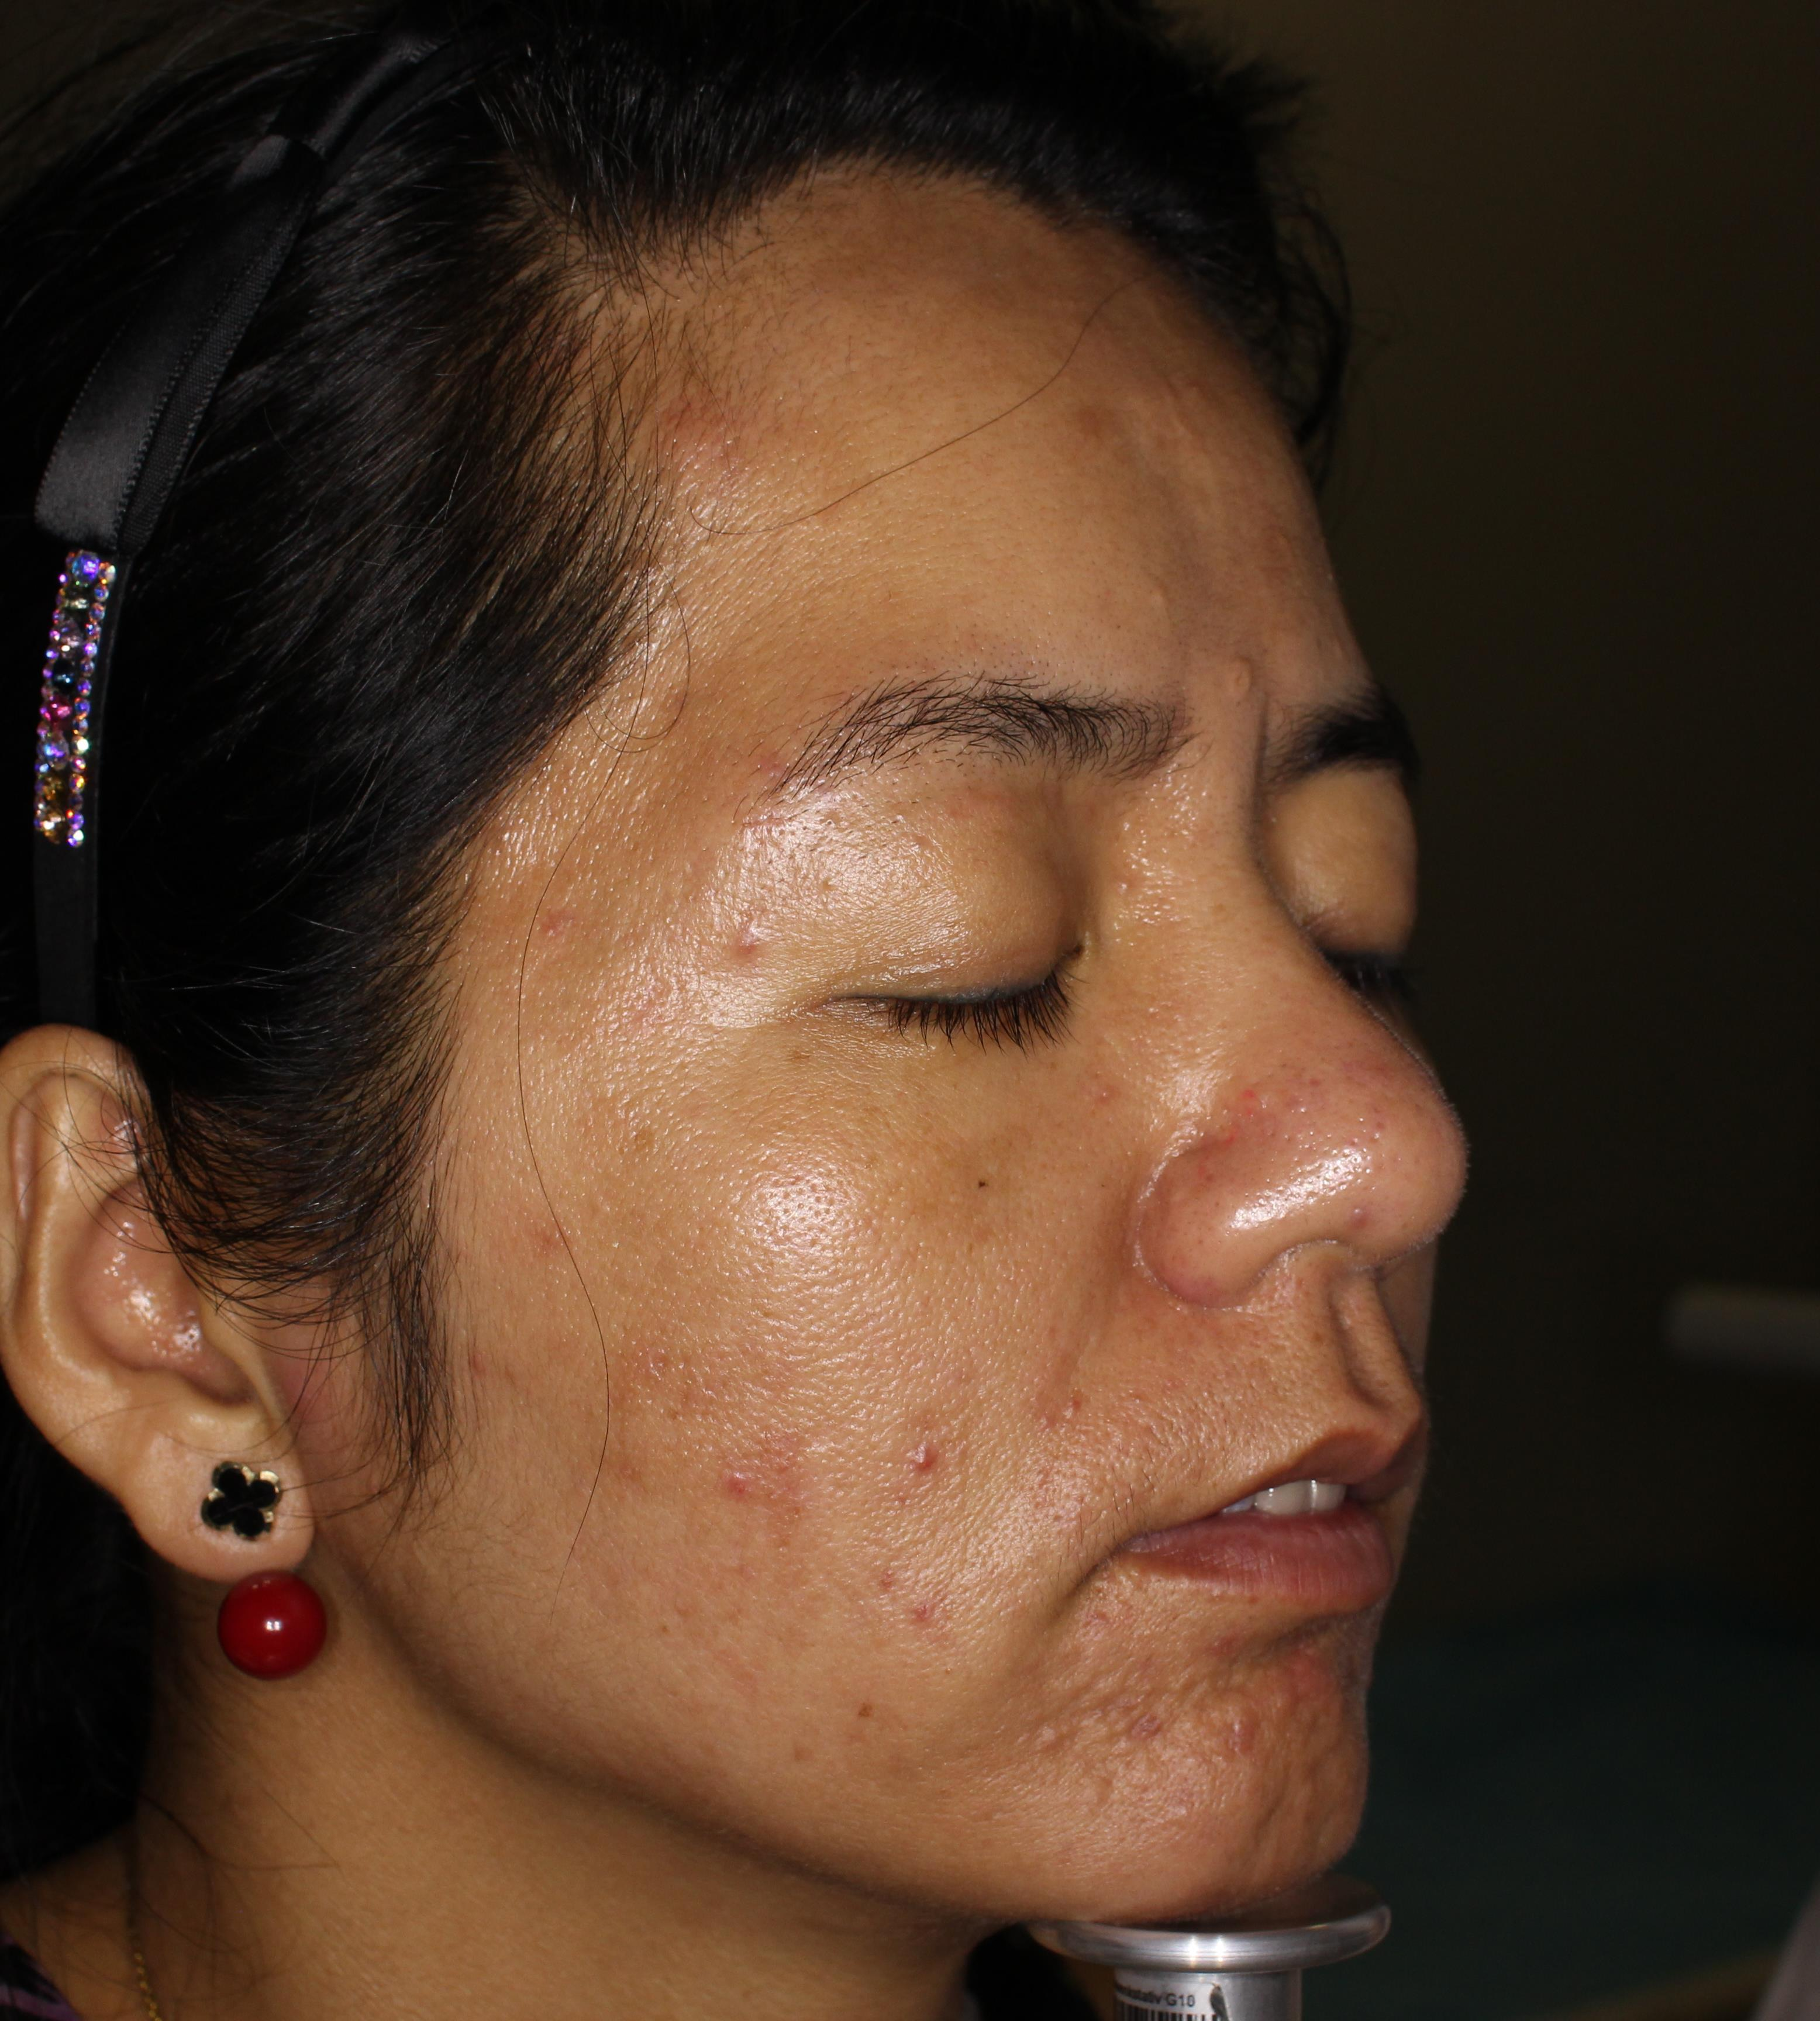fore: (880, 1557, 973, 1635), (884, 1433, 956, 1522), (669, 397, 727, 483), (1207, 630, 1265, 716), (713, 1447, 759, 1536), (444, 1326, 494, 1387), (762, 1447, 803, 1514), (710, 913, 759, 962)
